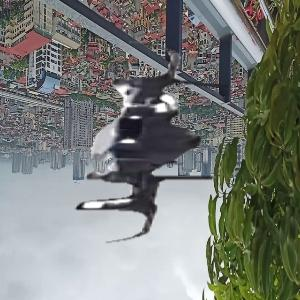drone: (35, 35, 252, 252)
